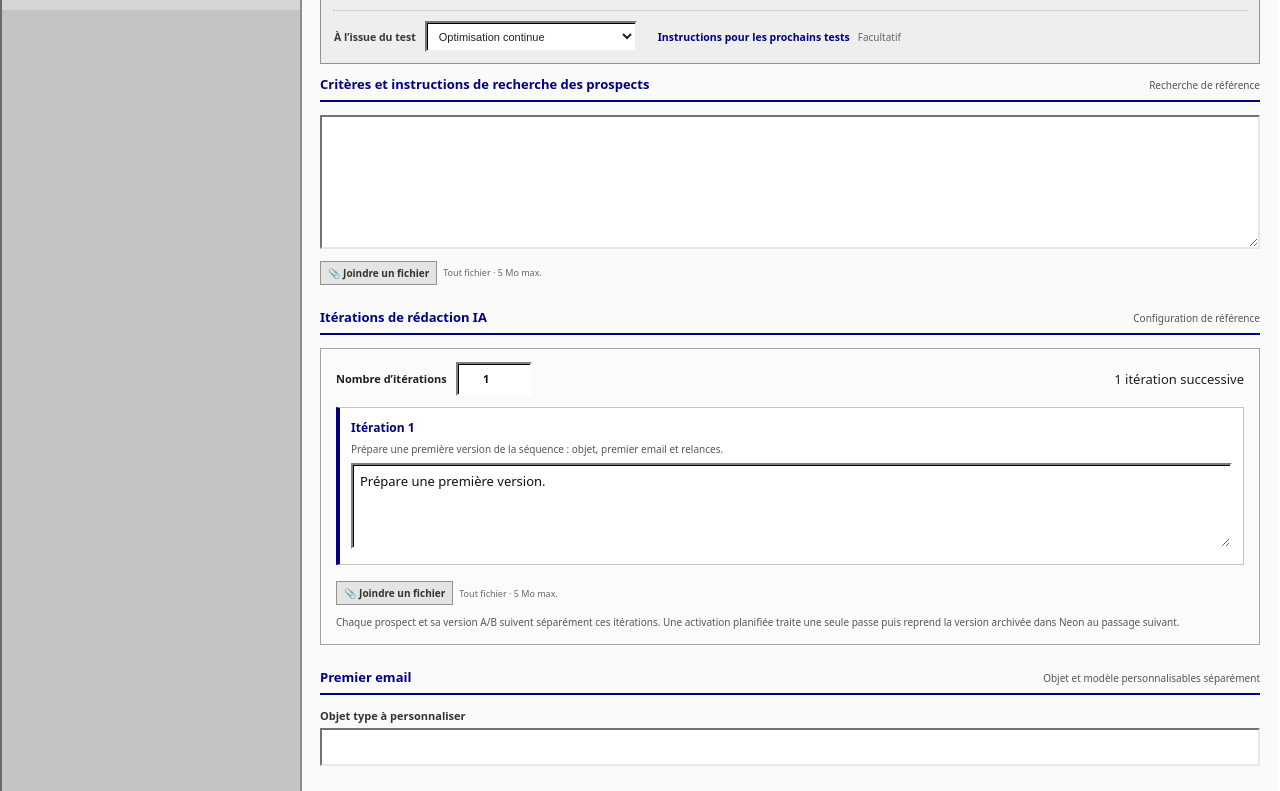
Test: CampaignsView V53 › accepts more than ten successive AI writing iterations
(page scrolled)
Replace the text in the number field labelled "Nombre d’itérations" with "12" at (494, 379), box [456,362,532,396]
(page scrolled)
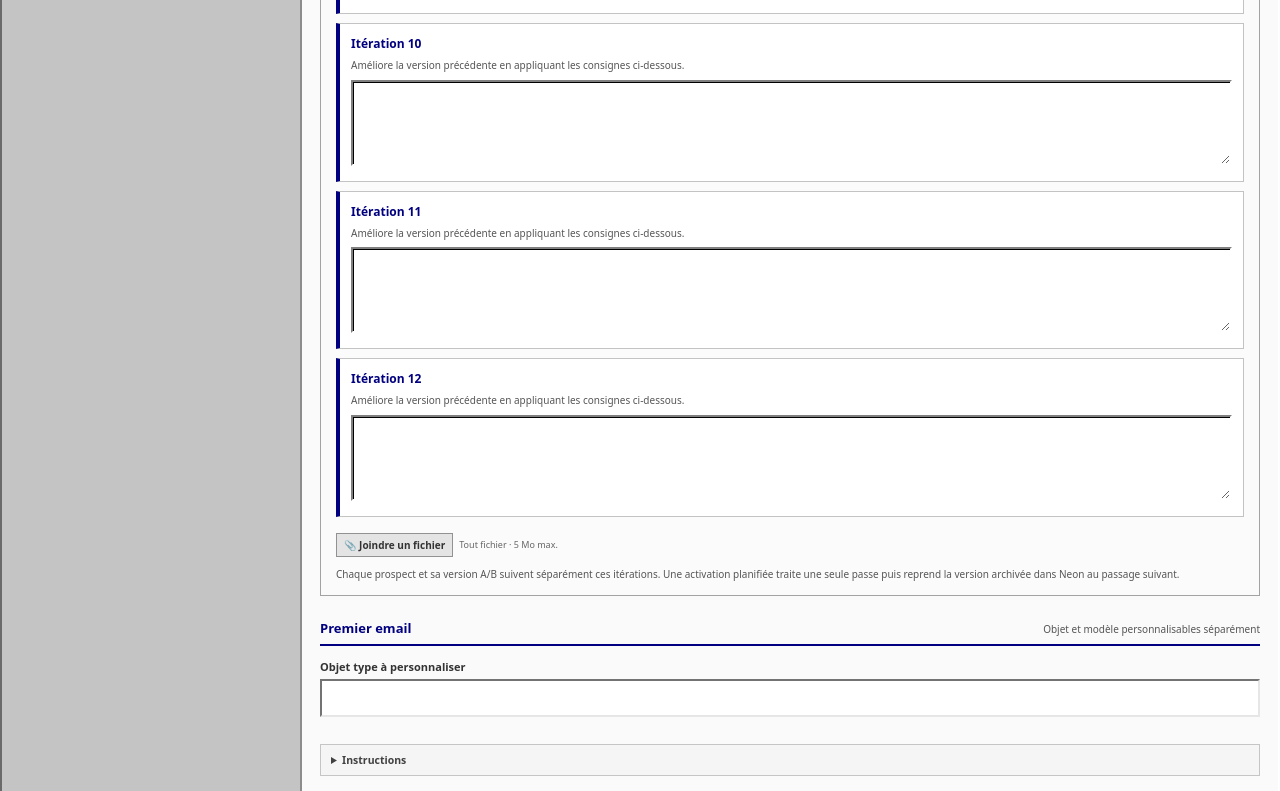
Expected: the text "Itération 12" is shown, [351,370,422,387]
